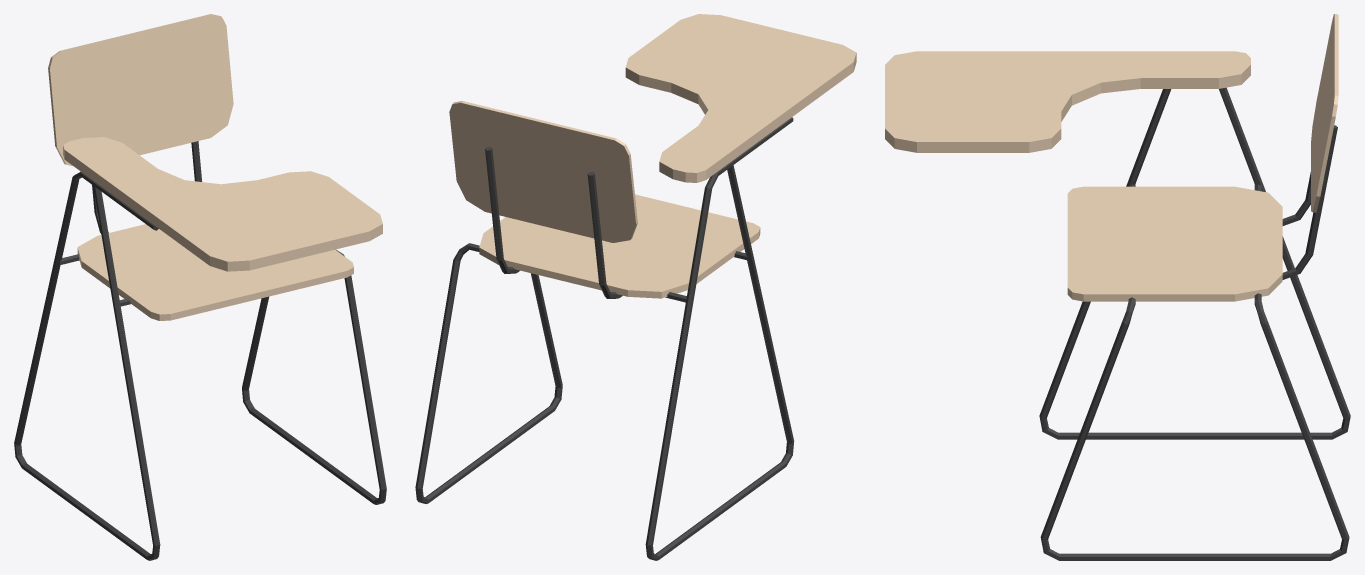
Rendered from StudyChairTable.fbx.
3 views of the same model, side by side, from view 1: azimuth 30°, elevation 25°; view 2: azimuth 150°, elevation 25°; view 3: azimuth 270°, elevation 25° (orthographic). The views are drawn at different scales.
Parts seen in each view (by area): view 1: 1xlS7zt1b2sw5OjZCylgdZ; view 2: 1xlS7zt1b2sw5OjZCylgdZ; view 3: 1xlS7zt1b2sw5OjZCylgdZ.
Boxes of the visible parts, left/top/right/bottom form: 1xlS7zt1b2sw5OjZCylgdZ: left=14, top=14, right=386, bottom=560; 1xlS7zt1b2sw5OjZCylgdZ: left=415, top=14, right=856, bottom=560; 1xlS7zt1b2sw5OjZCylgdZ: left=885, top=14, right=1350, bottom=560.
Bounding box in the file's own units: 47.17 × 78.38 × 74.25.
